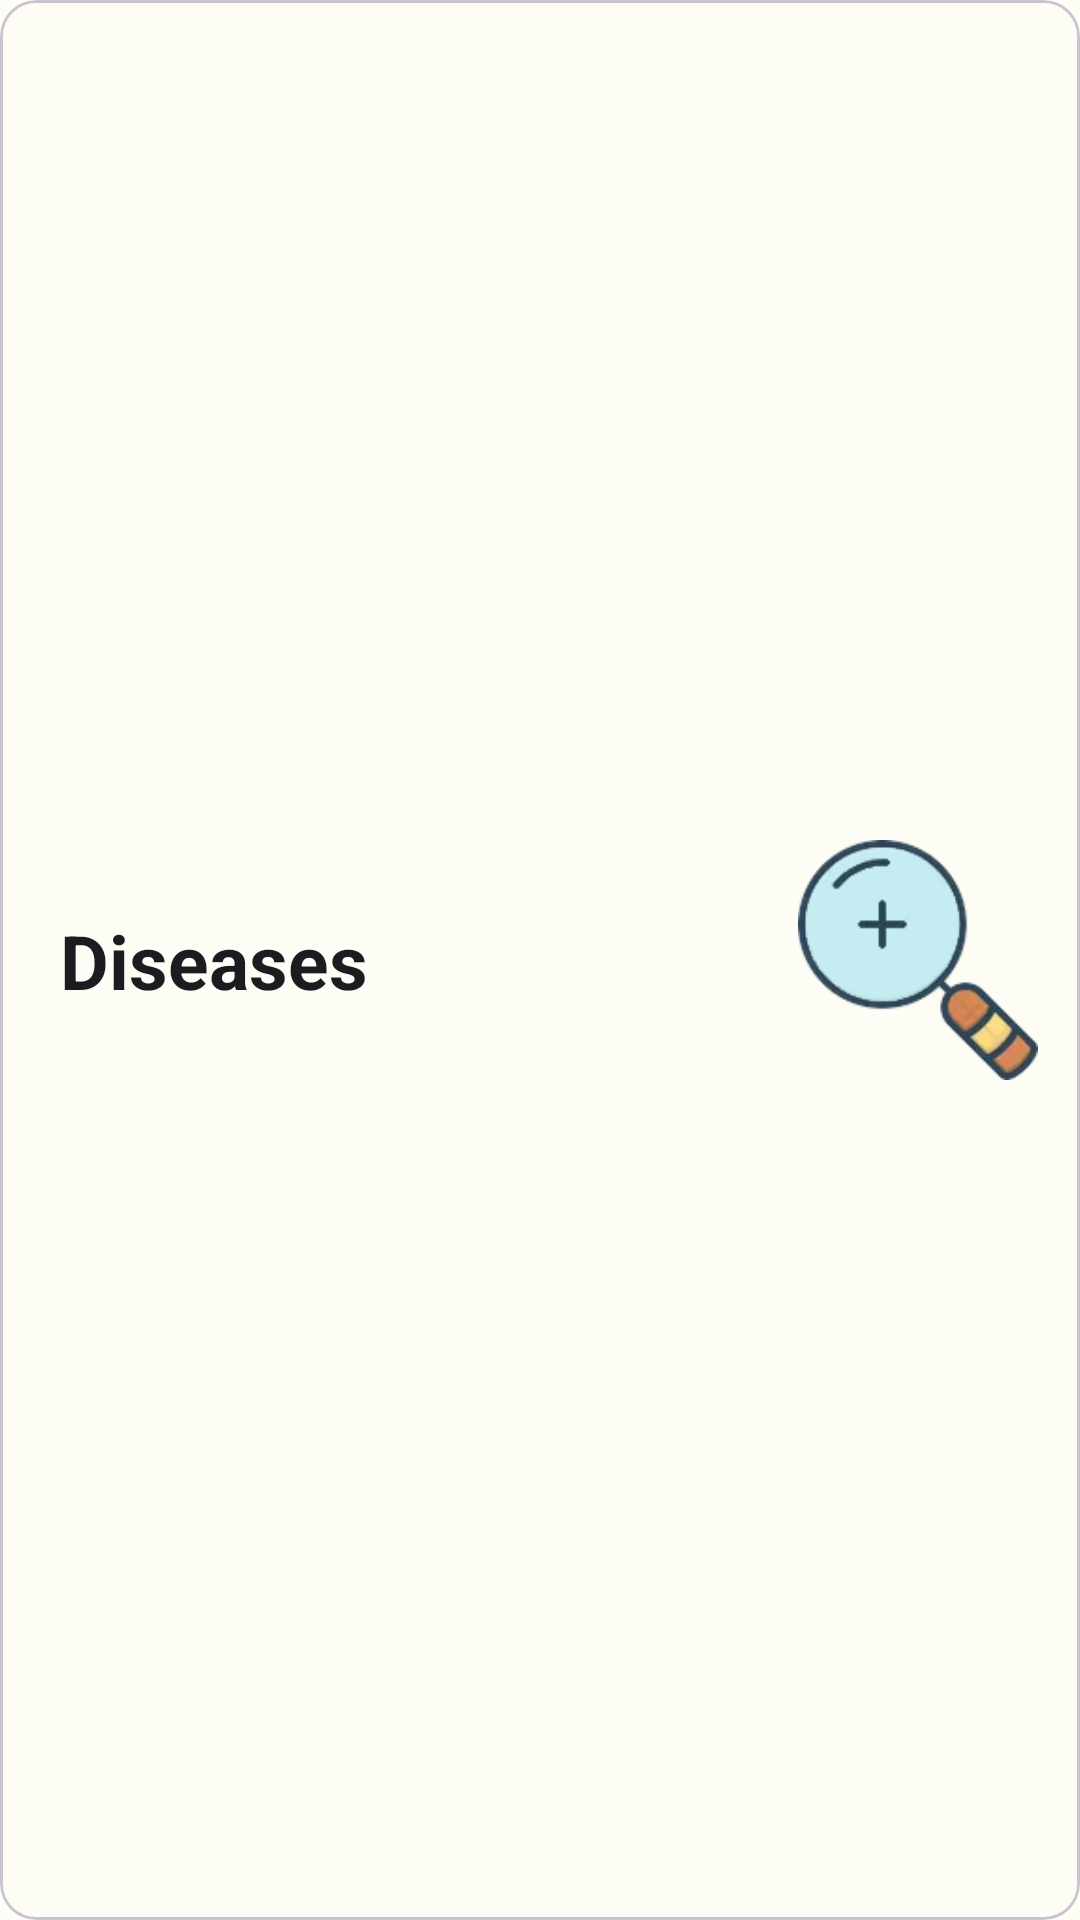

Icons on this 1080 × 1920 Android screen, each with its box as (x1, y1, x2, y2):
explore card: (798, 840, 1038, 1080)
